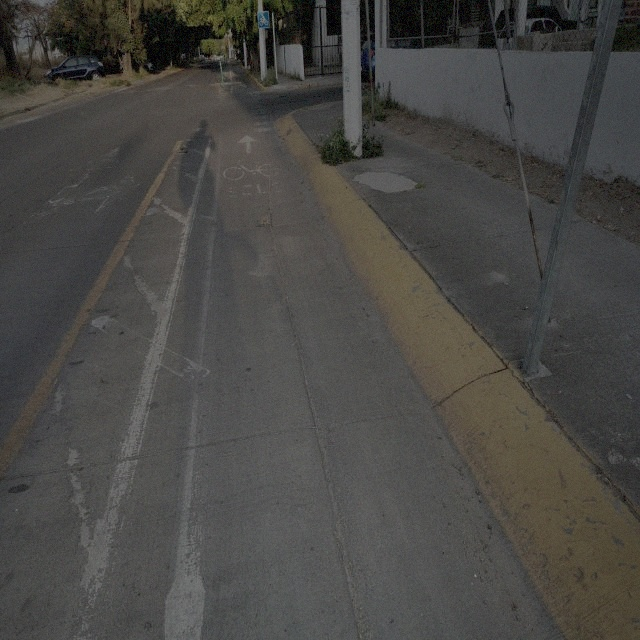pothole: (257, 215, 273, 229)
